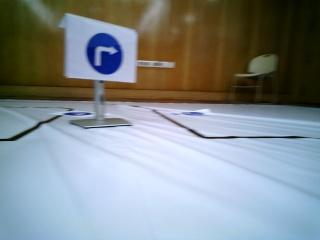right: (65, 20, 136, 81)
